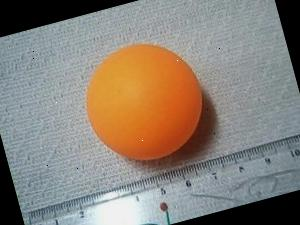ball: (68, 26, 218, 176)
